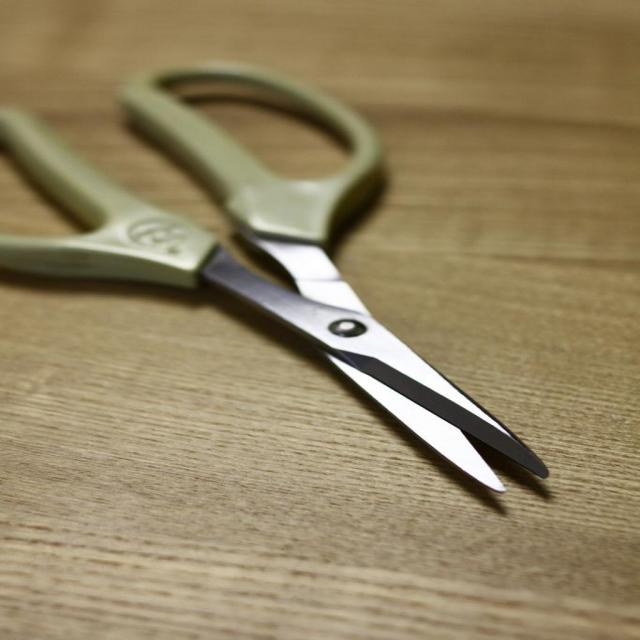scissor: (0, 59, 561, 494)
